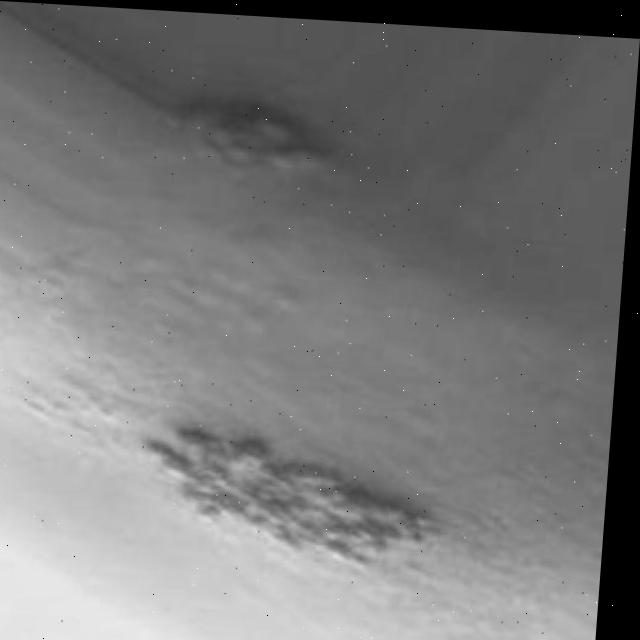Shingles: (127, 422, 445, 573), (183, 89, 327, 177)
